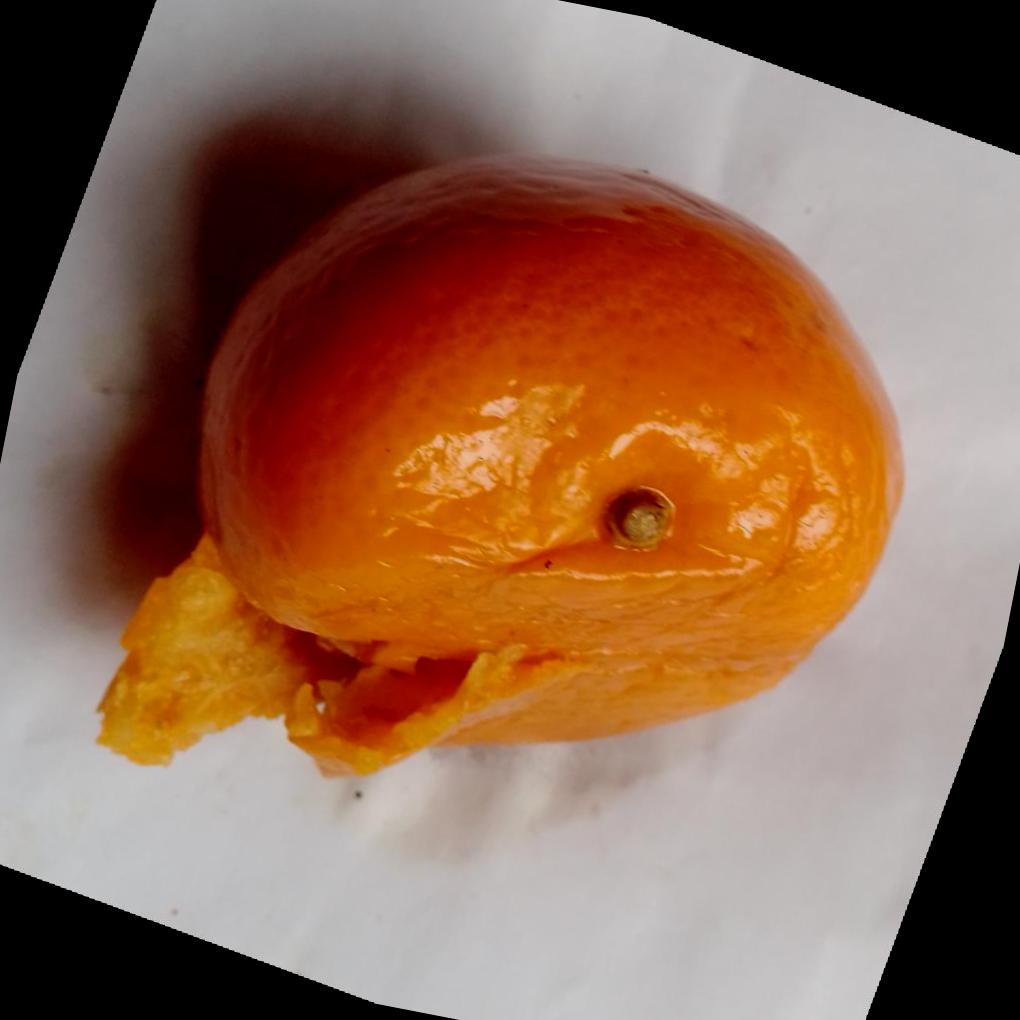FreshOrange: (95, 154, 906, 783)
